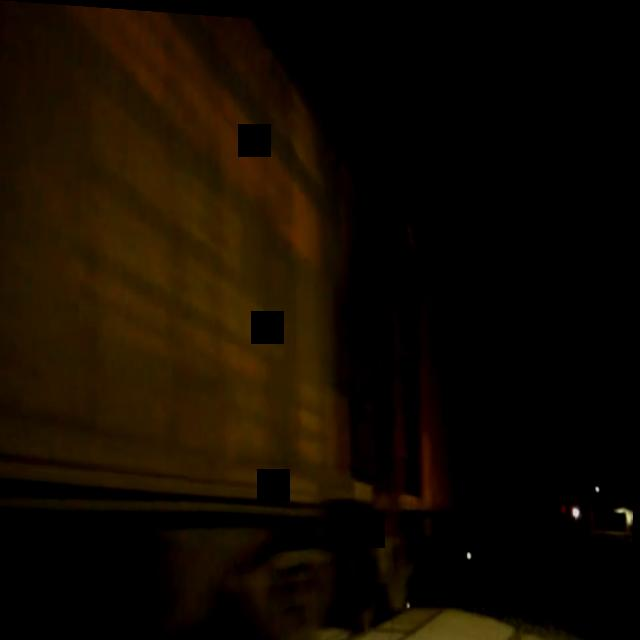hopper: (0, 0, 384, 640)
